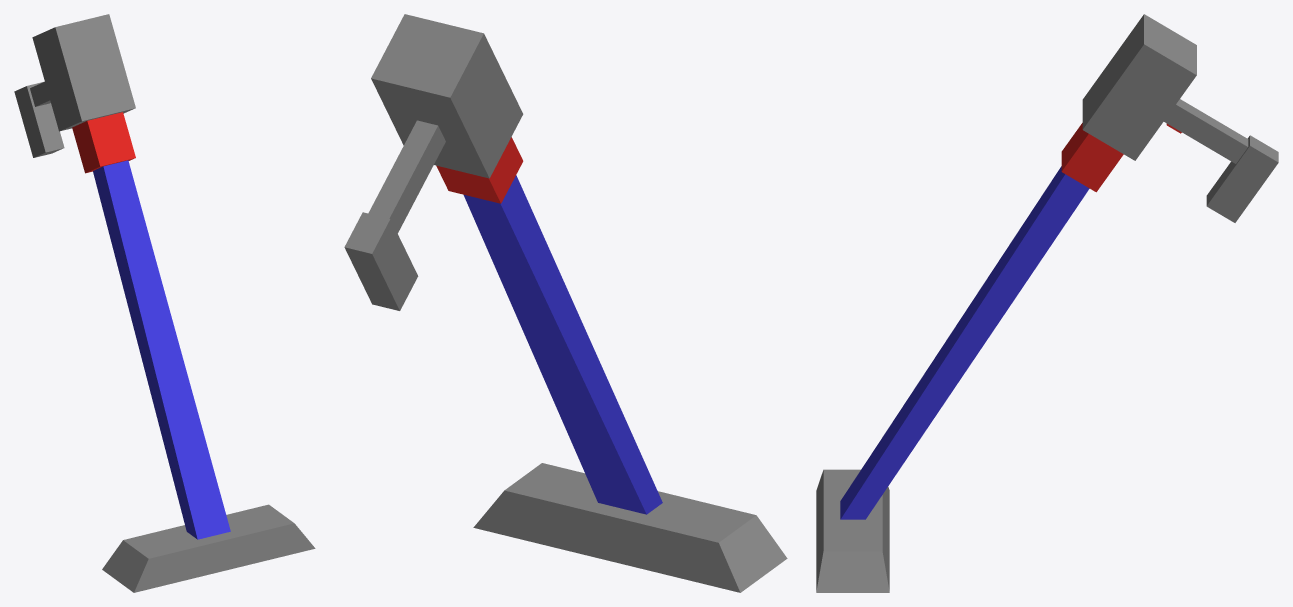
Rendered from Süpürge.fbx.
The picture shows the model from 3 angles, left to right: view 1: azimuth 30°, elevation 25°; view 2: azimuth 150°, elevation 25°; view 3: azimuth 270°, elevation 25°; orthographic projection. The views are drawn at different scales.
Visible parts, largest first — view 1: Cube.001; view 2: Cube.001; view 3: Cube.001.
Boxes of the visible parts, box(x1,y1,x2,y2) form: Cube.001: box(14, 14, 315, 592); Cube.001: box(344, 14, 787, 592); Cube.001: box(816, 14, 1278, 592).
Size of the model in its own units: 137 by 322 by 263.
